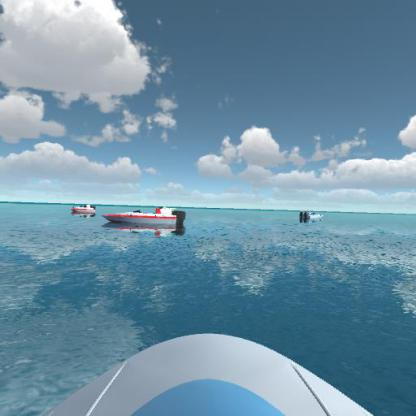usv0: (159, 200, 182, 215)
usv1: (297, 209, 326, 225)
usv3: (101, 203, 187, 237), (68, 198, 98, 217)
